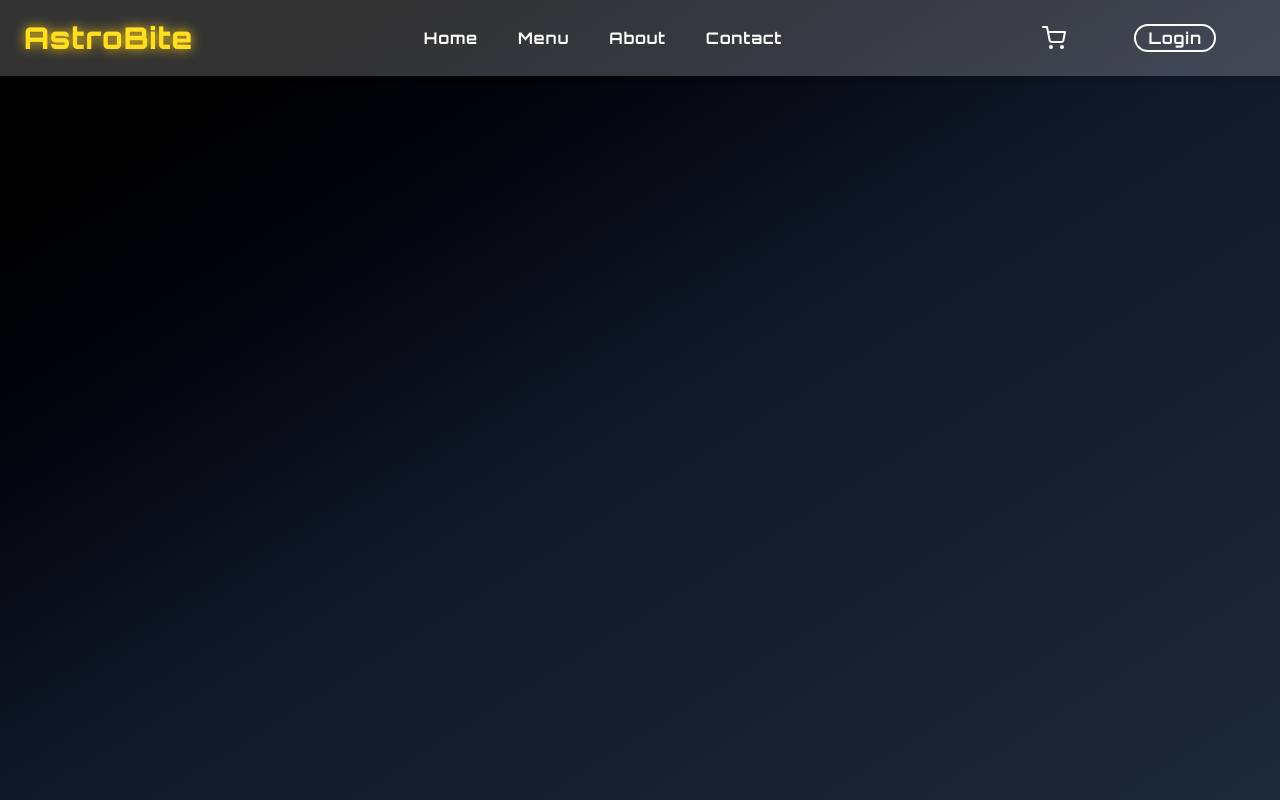
Test case: Navbar Buttons › Should open Login Popup
Click the button "Login": coordinates (1175, 38) top-left (1134, 24), bottom-right (1216, 52)
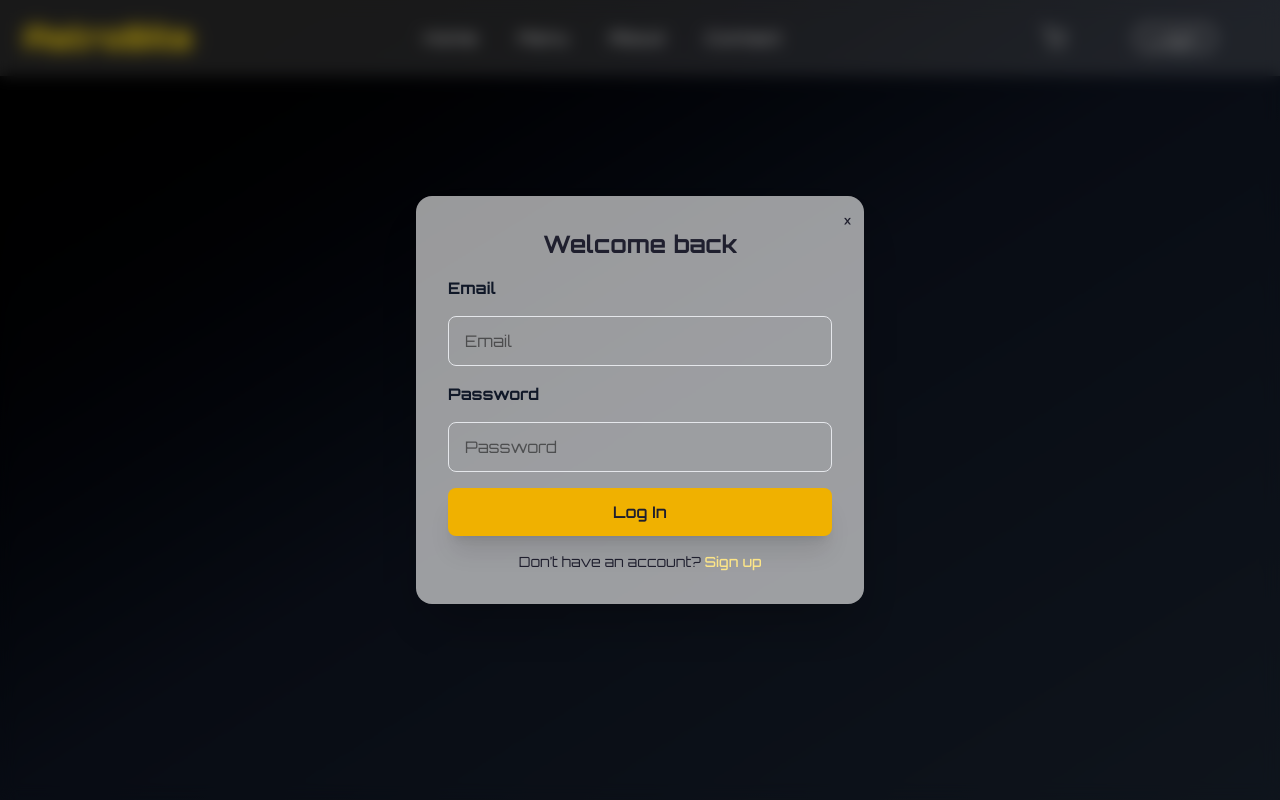
Result: the field with placeholder "Email" is shown at top-left (448, 316), bottom-right (832, 366)
